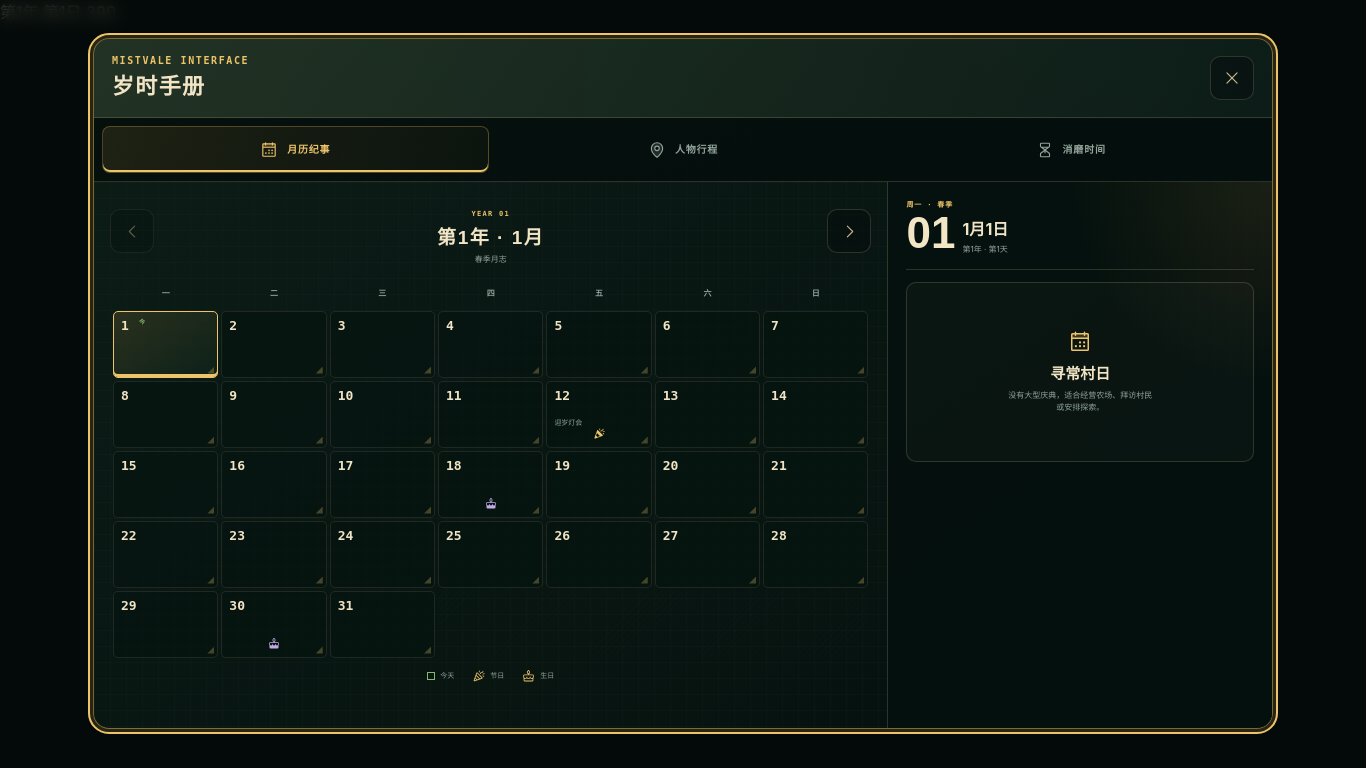
Test case: 岁时手册 › 在语义月历中标出节日和生日，并可查看人物全天行程
Expected: the table named "第1年1月月历" is shown, [110,277,872,661]
Expected: the button "12 迎岁灯会" is shown, [546,381,652,448]
Click the button "18".
click(491, 484)  # box [438,451,543,518]
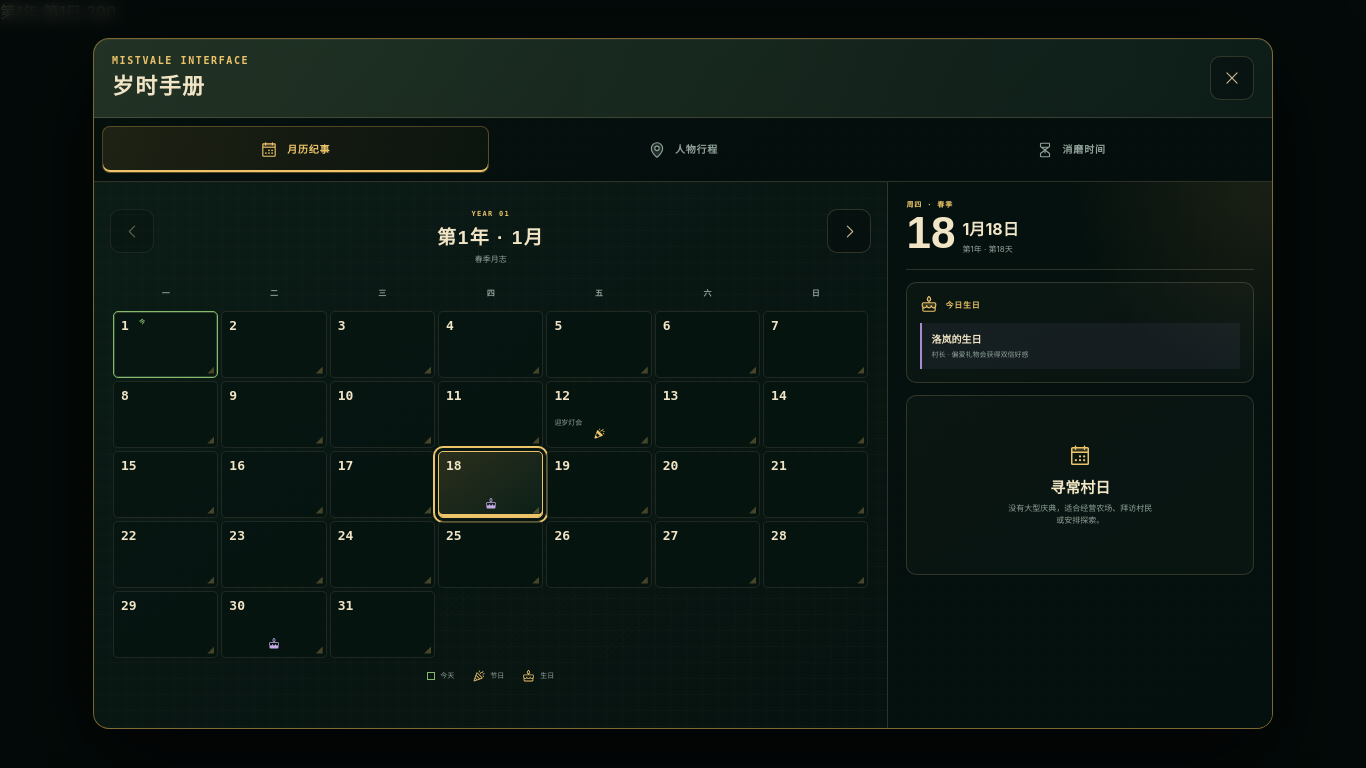
Now the text "洛岚的生日" is shown, box [932,333,982,345]
Click the button "1".
click(166, 344)  # box [113,311,218,378]
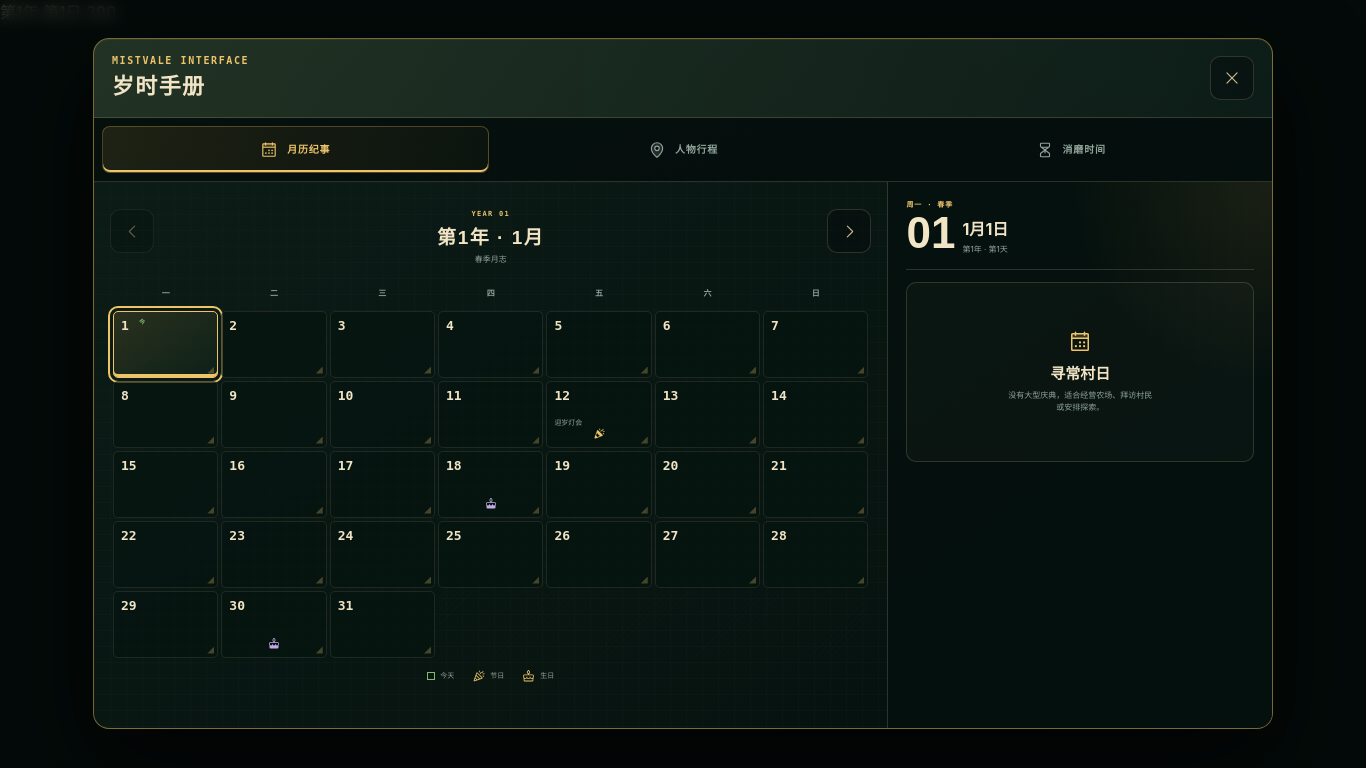
Click the tab "人物行程".
click(683, 150)  # box [490,126,876,173]
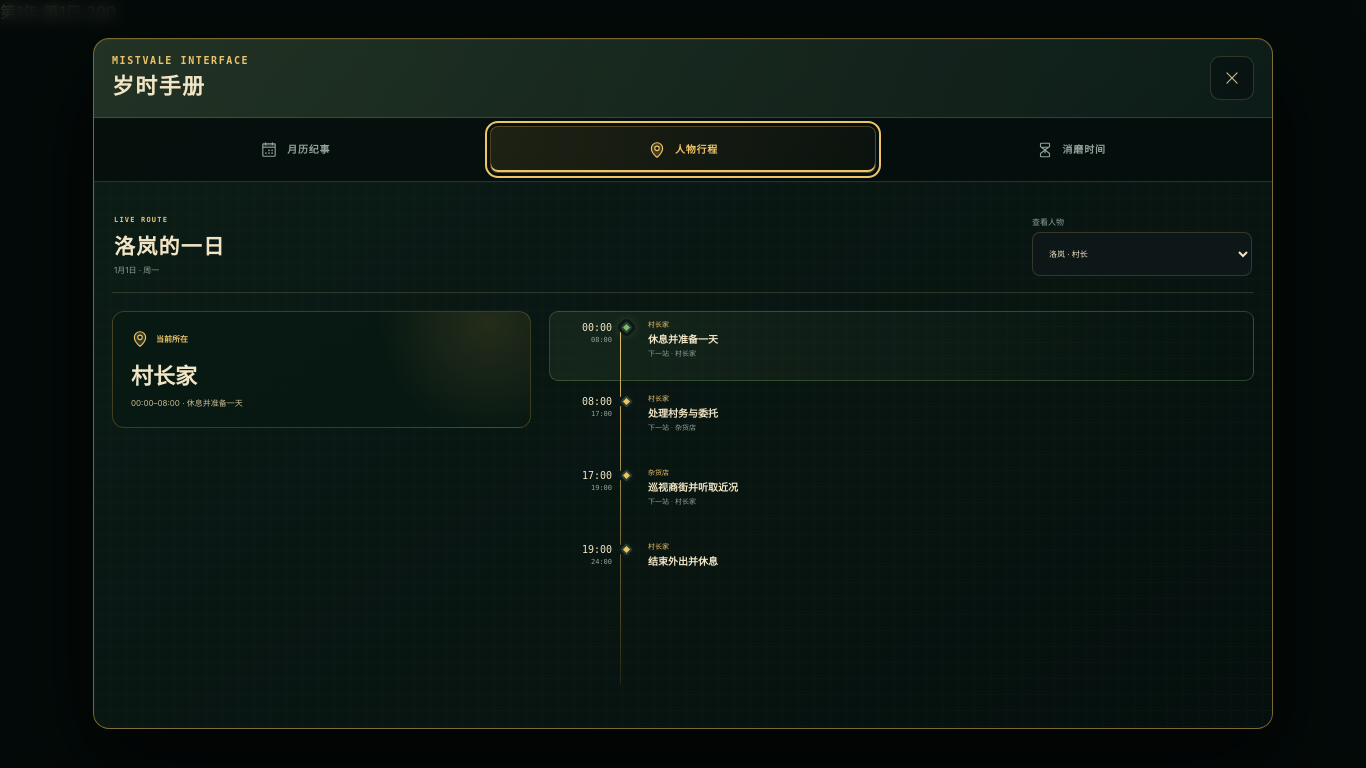
Now the text "当前所在" is shown, box [131,330,188,348]
Now the element named "人物当前位置" shows "村长家", box [131,364,197,389]
